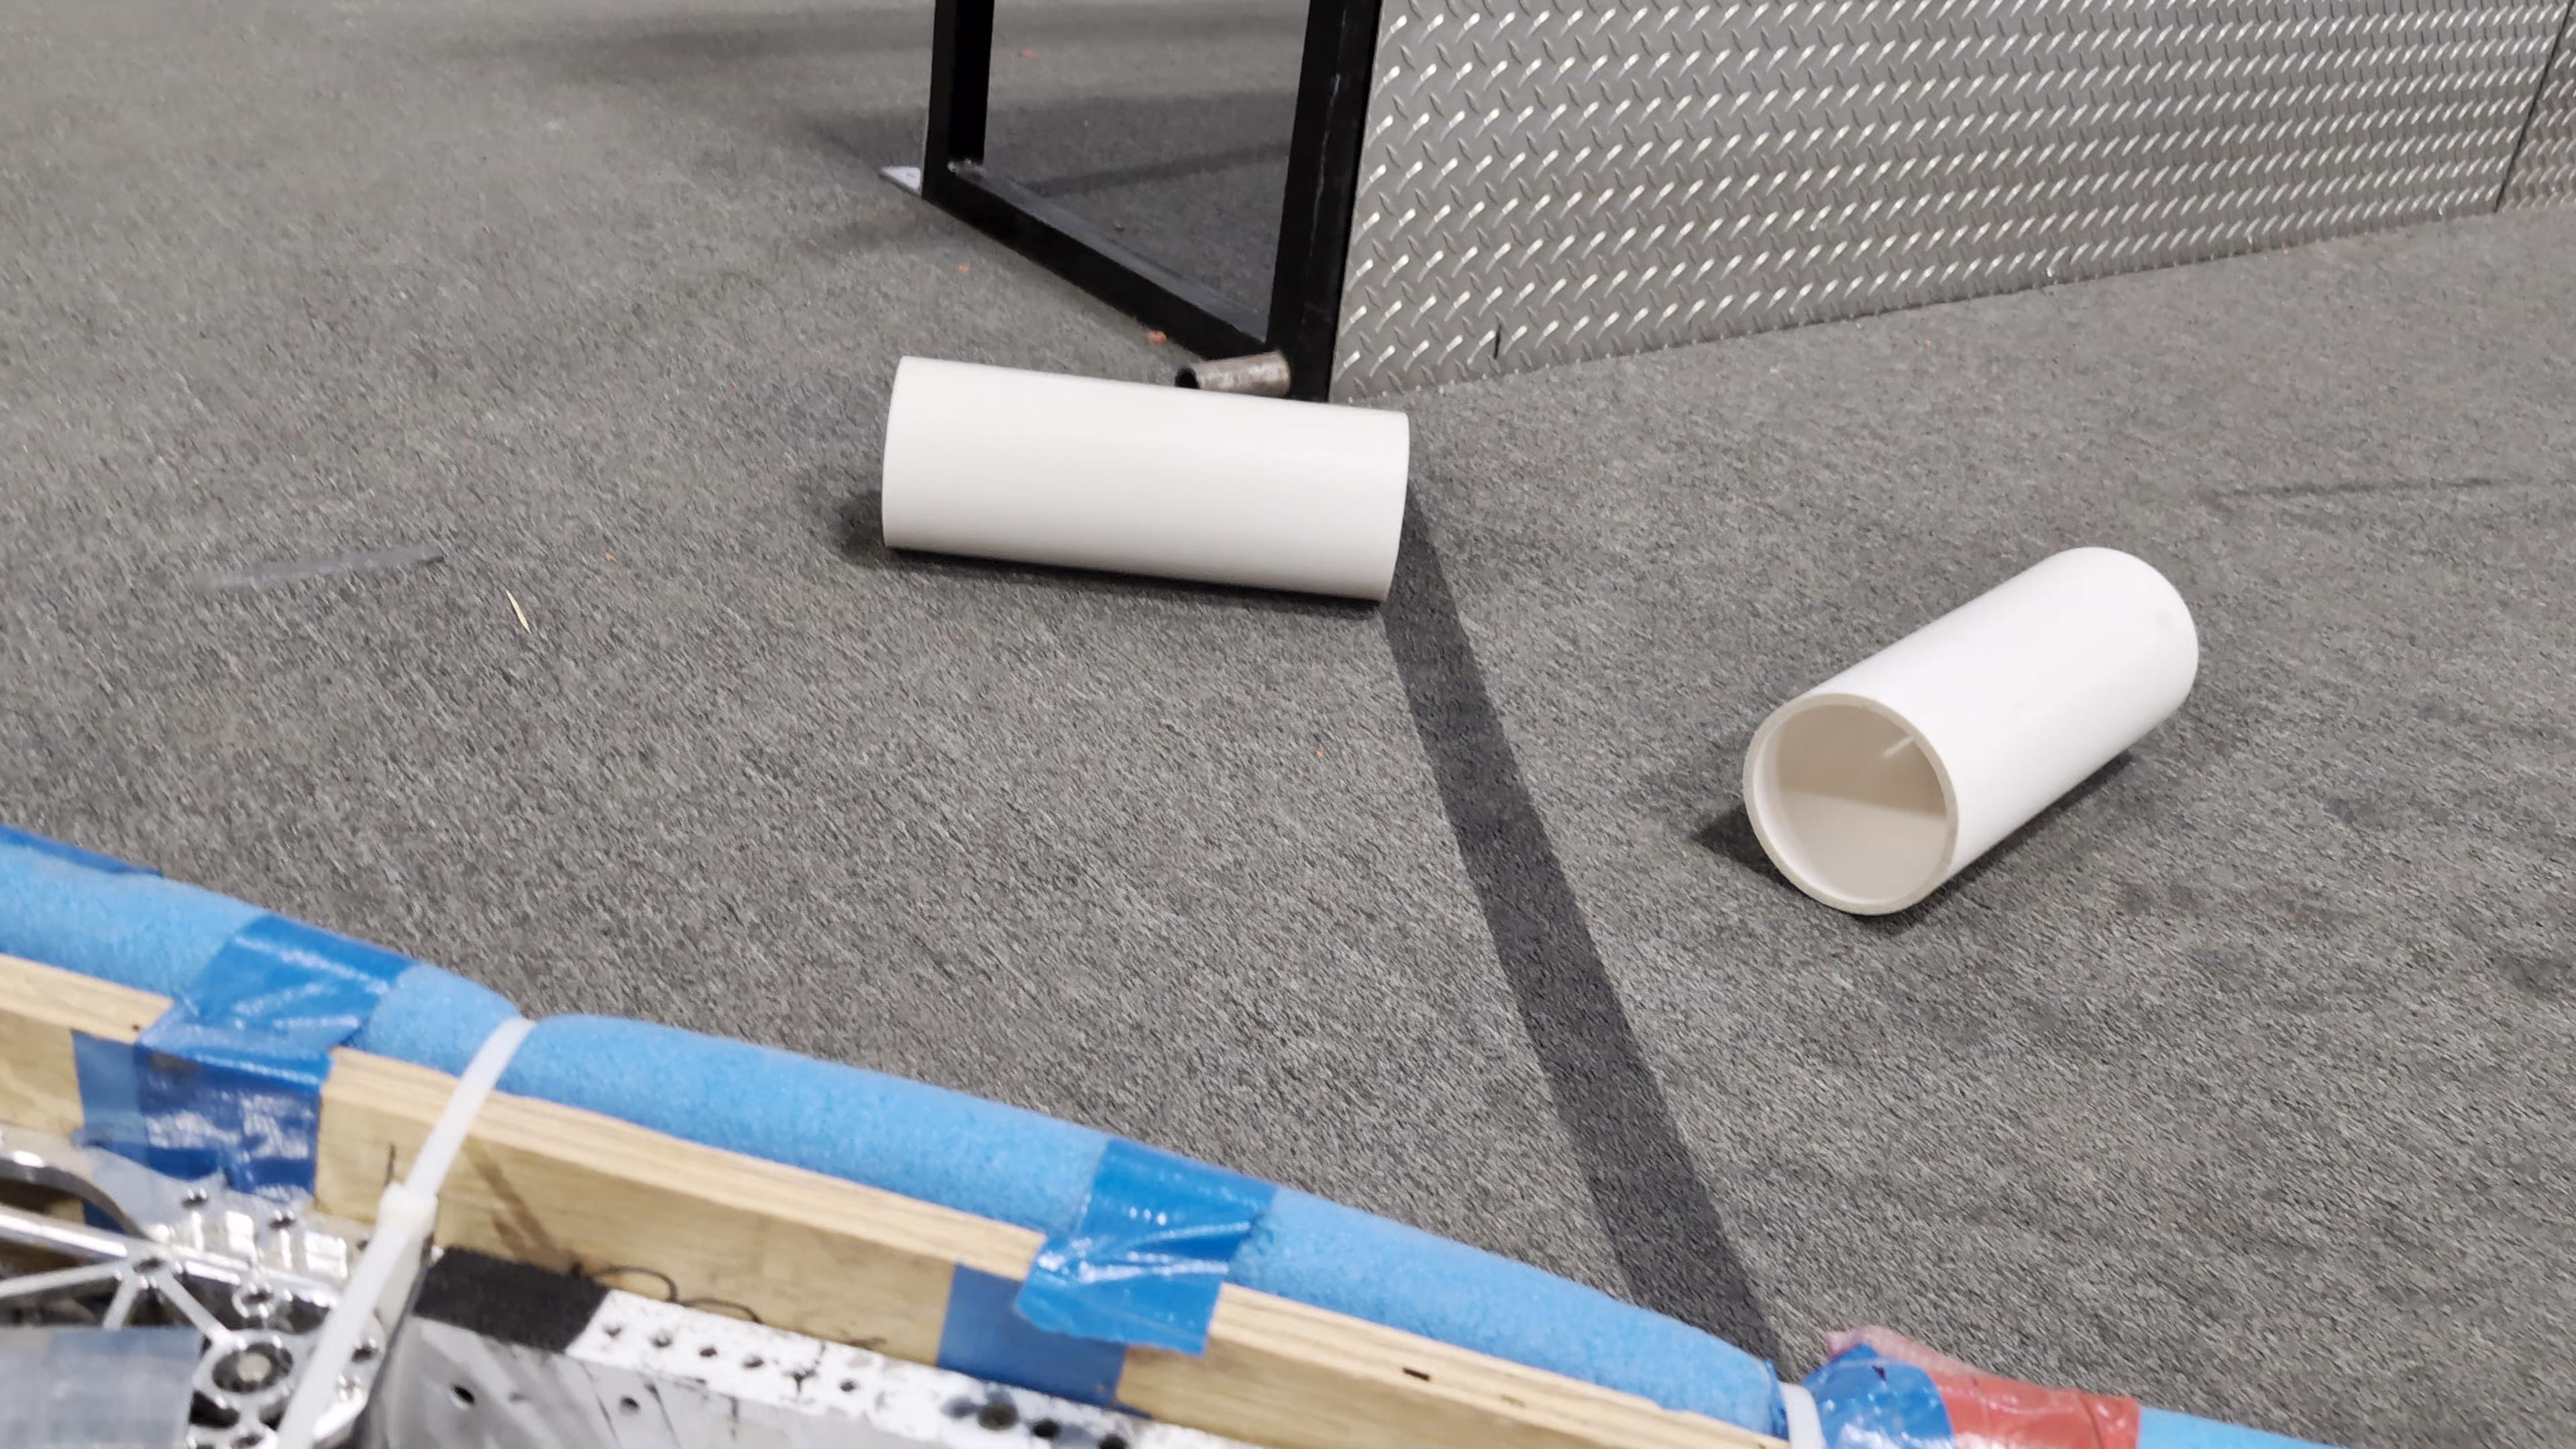coral: (1741, 541, 2201, 915), (878, 352, 1414, 603)
